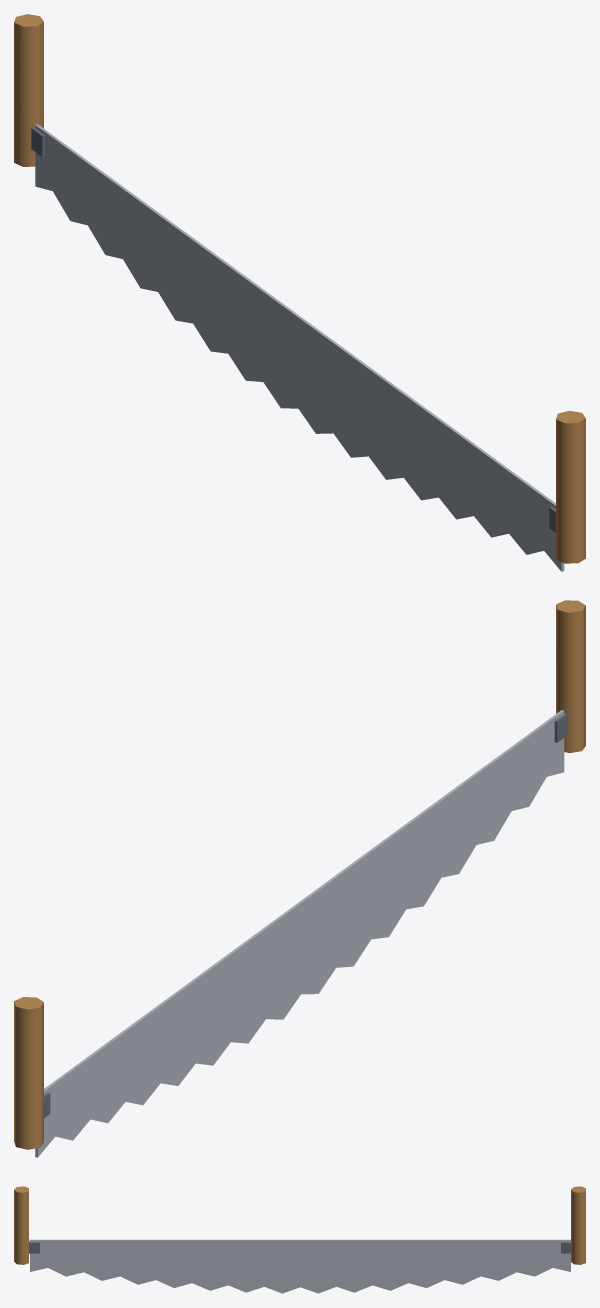
File: tool_crosscut.glb
The picture shows the model from 3 angles, top to bottom: view 1: azimuth 30°, elevation 25°; view 2: azimuth 150°, elevation 25°; view 3: azimuth 270°, elevation 25°; orthographic projection. The views are drawn at different scales.
Visible parts, largest first — view 1: _MeshInstance3D_995, _MeshInstance3D_993, _MeshInstance3D_994; view 2: _MeshInstance3D_995, _MeshInstance3D_994, _MeshInstance3D_993; view 3: _MeshInstance3D_995, _MeshInstance3D_993, _MeshInstance3D_994.
Boxes of the visible parts, x1,y1,x2,y2 form: _MeshInstance3D_995: [35, 124, 564, 571]; _MeshInstance3D_993: [556, 410, 585, 563]; _MeshInstance3D_994: [14, 14, 43, 166]; _MeshInstance3D_995: [35, 710, 564, 1157]; _MeshInstance3D_994: [14, 997, 43, 1149]; _MeshInstance3D_993: [556, 600, 585, 753]; _MeshInstance3D_995: [30, 1239, 570, 1293]; _MeshInstance3D_993: [14, 1186, 28, 1264]; _MeshInstance3D_994: [571, 1186, 585, 1264].
Size of the model in its own units: 0.039 by 0.2877 by 1.44.
